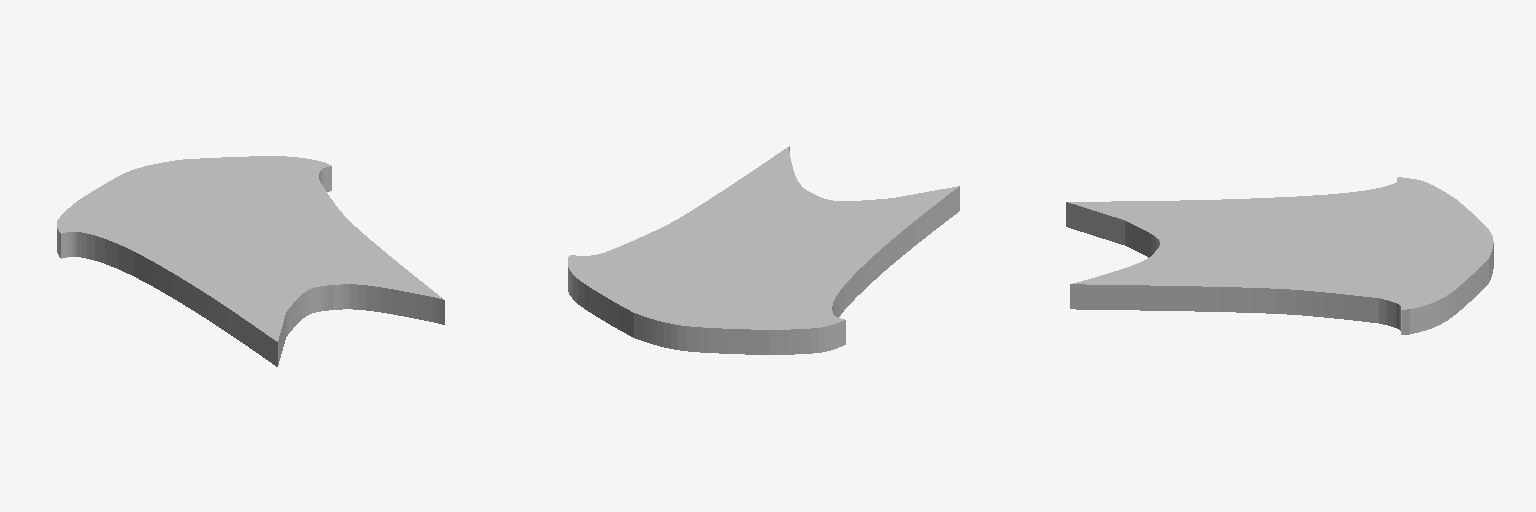
File: skeletonAvatar.obj
3 renders of one model, left to right at view 1: azimuth 30°, elevation 25°; view 2: azimuth 150°, elevation 25°; view 3: azimuth 270°, elevation 25°, orthographic.
Parts seen in each view (by area): view 1: Line001; view 2: Line001; view 3: Line001.
Boxes of the visible parts, x1,y1,x2,y2 form: Line001: [57, 156, 444, 366]; Line001: [568, 146, 959, 354]; Line001: [1066, 177, 1493, 334].
Bounding box in the file's own units: 0.6828 × 0.0602 × 0.9264.